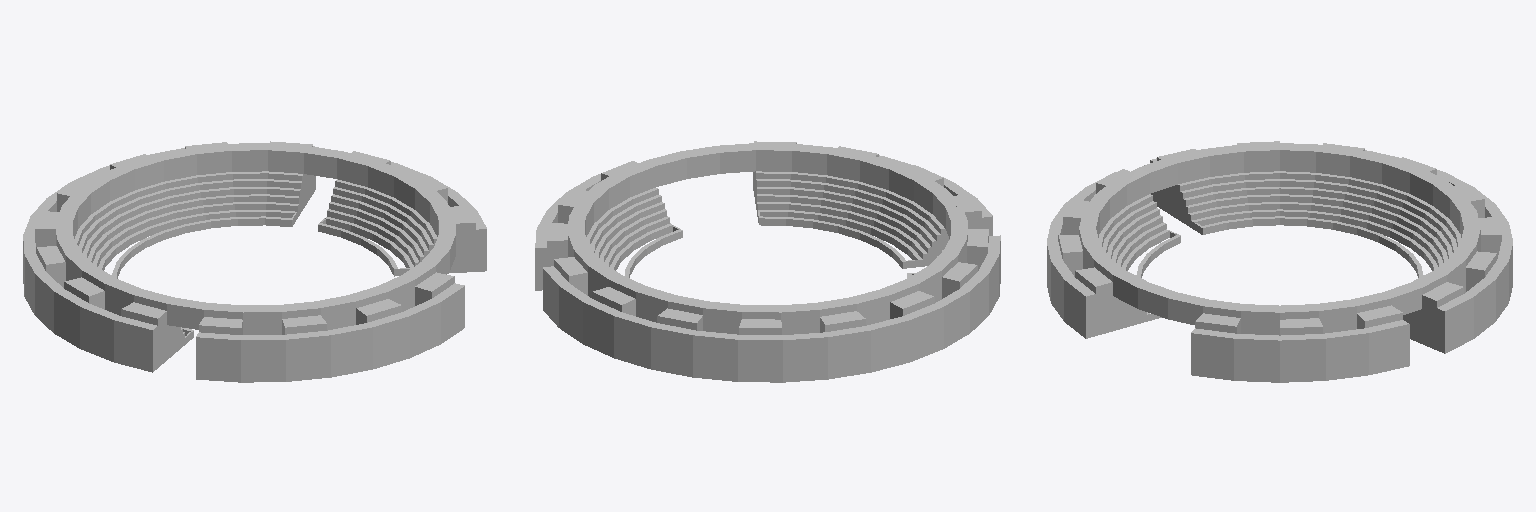
The model's file is arena_v1.obj.
The picture shows the model from 3 angles: view 1: azimuth 30°, elevation 25°; view 2: azimuth 150°, elevation 25°; view 3: azimuth 270°, elevation 25°; orthographic projection.
Visible parts, largest first — view 1: Cylinder; view 2: Cylinder; view 3: Cylinder.
Boxes of the visible parts, <box> form: Cylinder: <box>23,141,486,382</box>; Cylinder: <box>535,141,1000,382</box>; Cylinder: <box>1047,141,1512,382</box>.
Bounding box in the file's own units: 60 × 8.01 × 60.